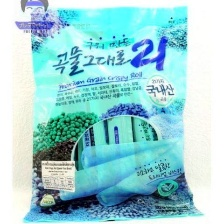snack: (14, 0, 209, 224)
